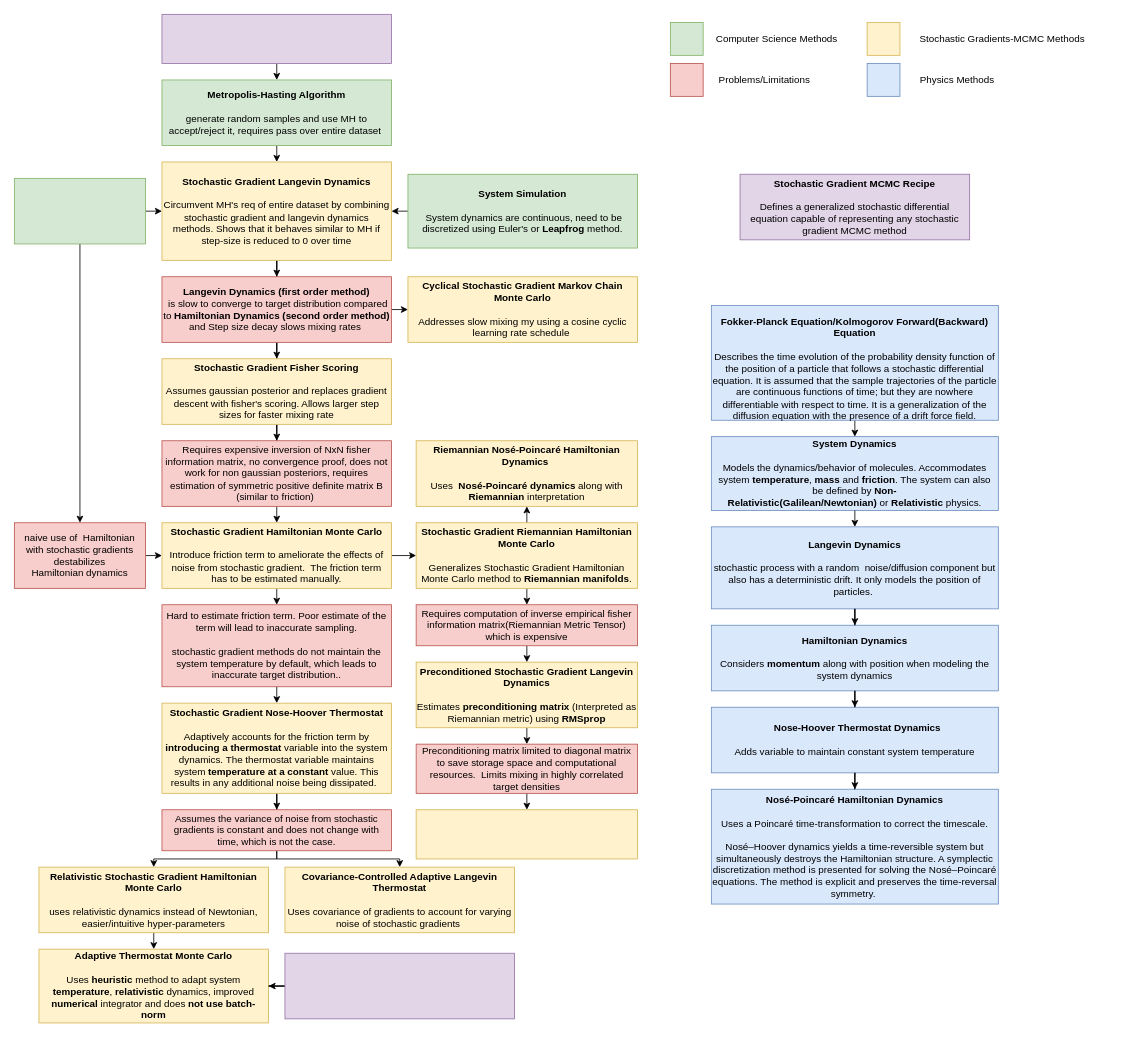
The diagram is 1136 pixels wide and 1037 high, and some of its shapes have lost their labels. The centre of each missing label's shape, as x and y in pixels:
"Hessian Approximated MCMC Uses L-BFGS to determine preconditioning matrix." belongs at point (526, 834).
"Higher-Order Integrators" belongs at point (399, 985).
"MCMC Methods combines optimization with sampling methods" belongs at point (276, 39).
"Stochastic Gradient Gradient descent with mini batches" belongs at point (80, 211).
